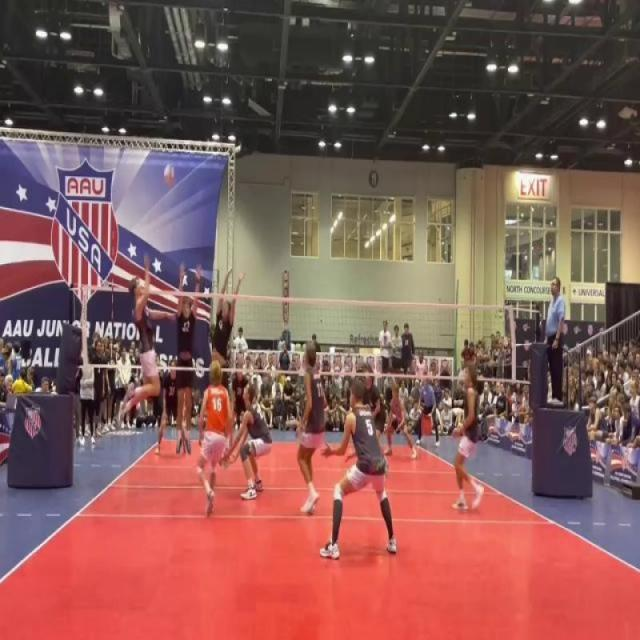volleyball: (162, 163, 175, 188)
